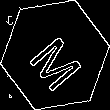M_NE: (23, 21, 87, 89)
